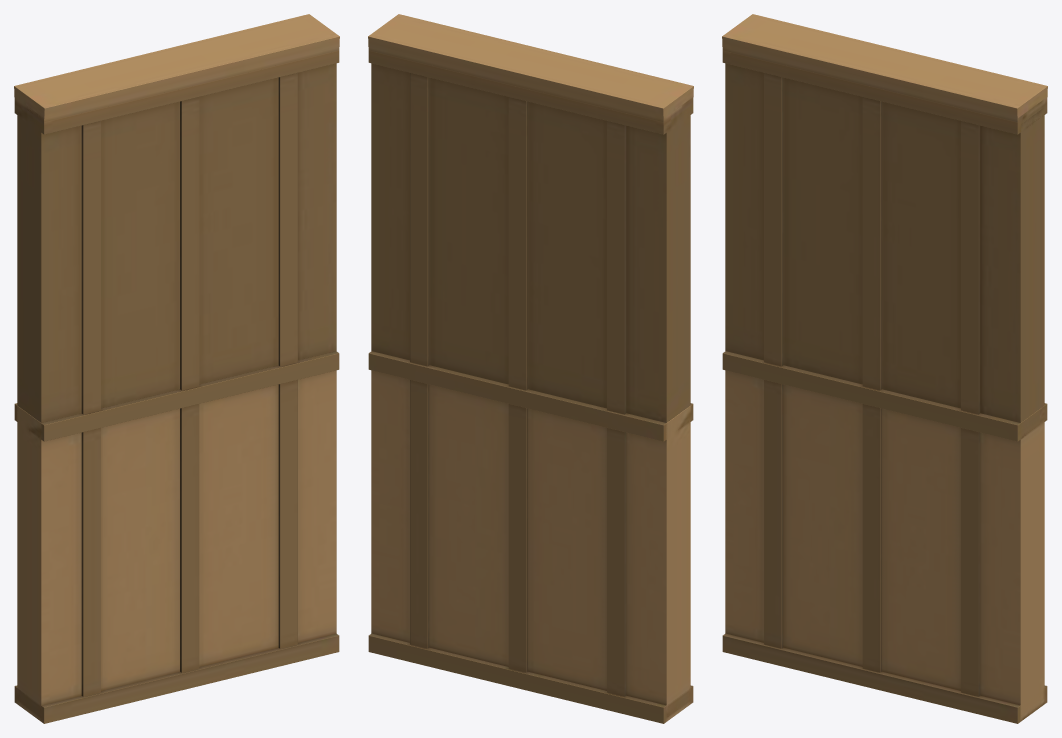
File: BD_high_wall.glb
3 renders of one model, left to right at view 1: azimuth 30°, elevation 25°; view 2: azimuth 150°, elevation 25°; view 3: azimuth 330°, elevation 25°, orthographic.
Visible parts, largest first — view 1: BD_high_wall; view 2: BD_high_wall; view 3: BD_high_wall.
Boxes of the visible parts, x1=… form: BD_high_wall: x1=14, y1=14, x2=339, y2=723; BD_high_wall: x1=368, y1=14, x2=693, y2=723; BD_high_wall: x1=722, y1=14, x2=1047, y2=723.
Bounding box in the file's own units: 3 × 5.98 × 0.5398.
Materials: 1 (1 with a texture image).
